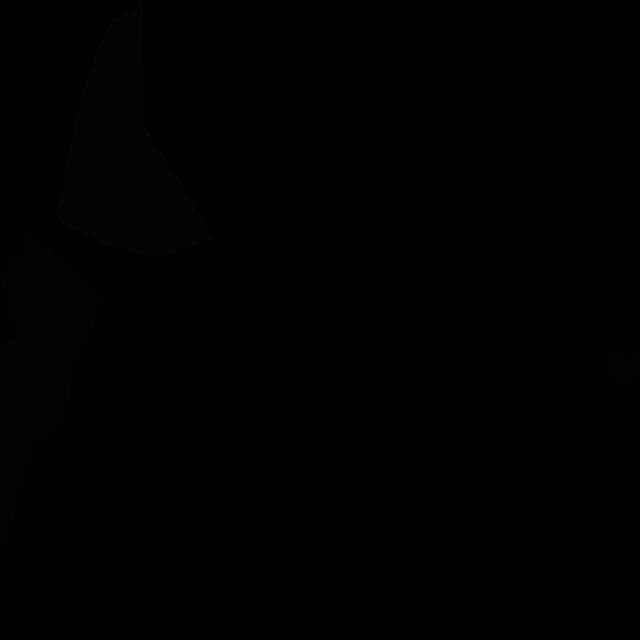cardboard: (0, 230, 106, 429), (0, 333, 62, 567), (604, 340, 640, 384)
soft_plastic: (54, 3, 217, 259)
